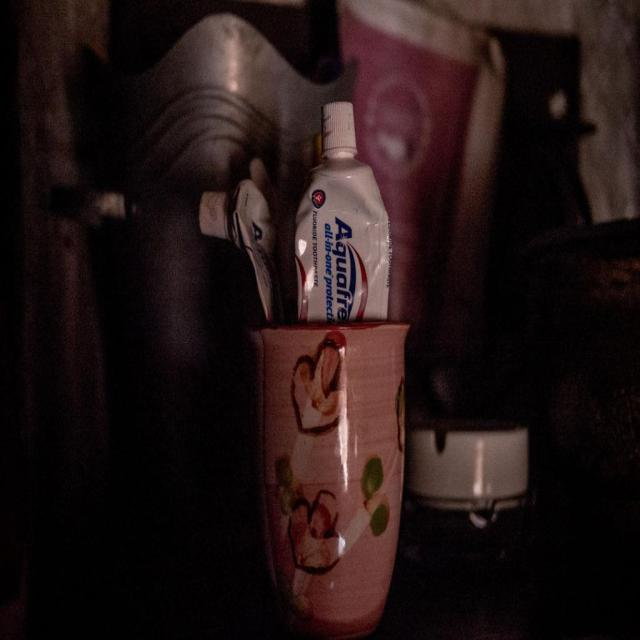Toothpaste: (293, 101, 392, 321)
